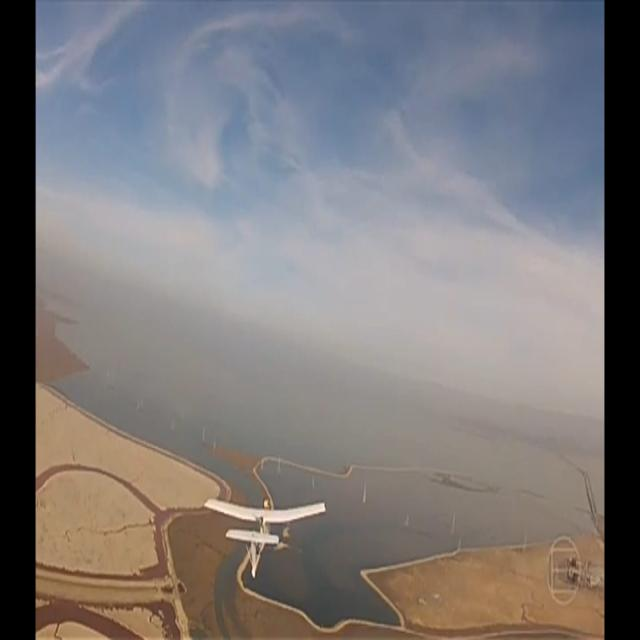iha: (228, 526, 289, 549)
